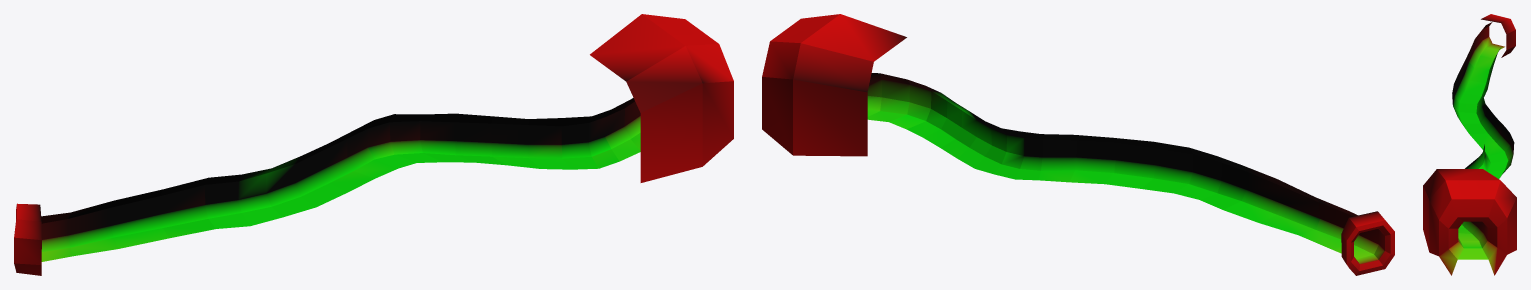
The model's file is forest_shortcut_7_4.glb.
3 renders of one model, left to right at view 1: azimuth 30°, elevation 25°; view 2: azimuth 150°, elevation 25°; view 3: azimuth 270°, elevation 25°, orthographic. The views are drawn at different scales.
Visible parts, largest first — view 1: Wasteland_Shortcut; view 2: Wasteland_Shortcut; view 3: Wasteland_Shortcut.
Part boxes in pixels (<box>): Wasteland_Shortcut: <box>14,14,733,275</box>; Wasteland_Shortcut: <box>762,14,1394,275</box>; Wasteland_Shortcut: <box>1423,14,1516,275</box>.
Bounding box in the file's own units: 54.23 × 9.9 × 10.2.
